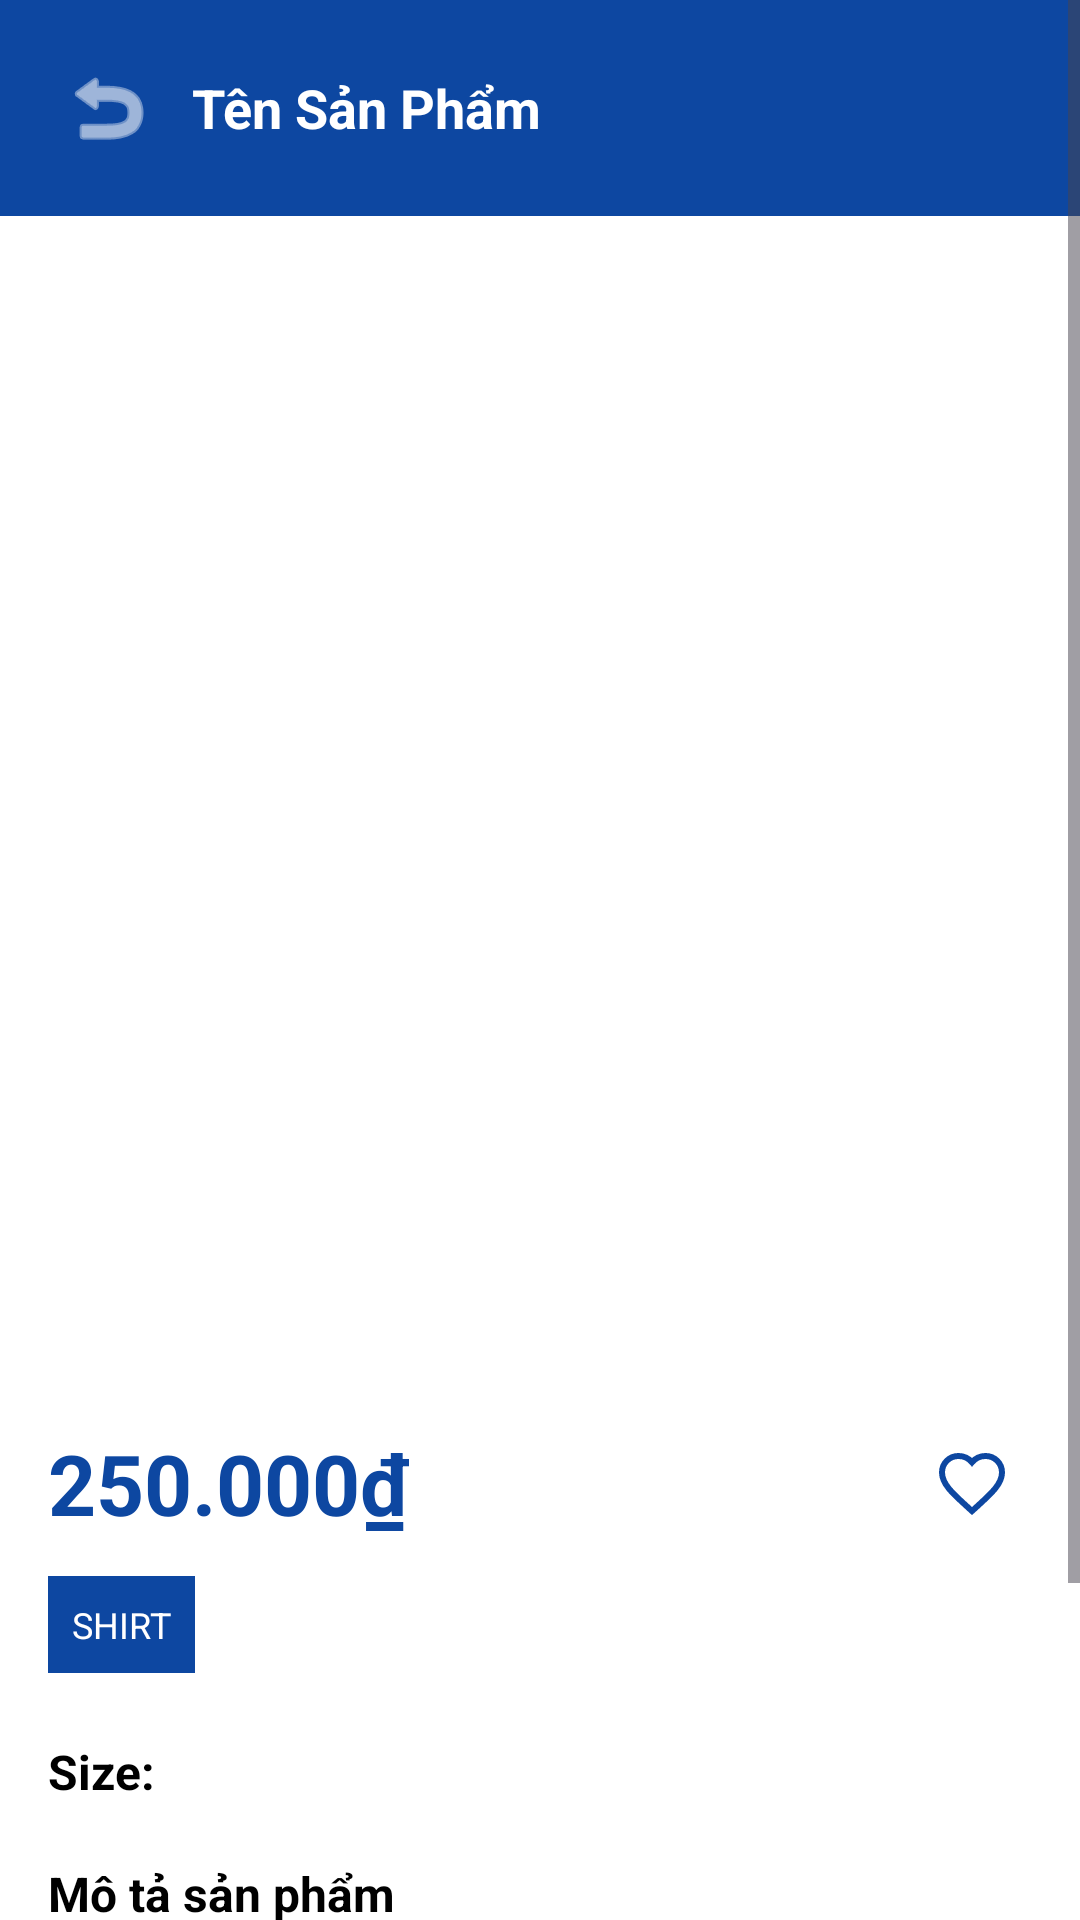

Icons on this 1080×1920 Android screen, each with its box as rect(x1, y1, x2, y2):
Add to wishlist: rect(939, 1453, 1005, 1515)
revert: rect(75, 77, 144, 140)
